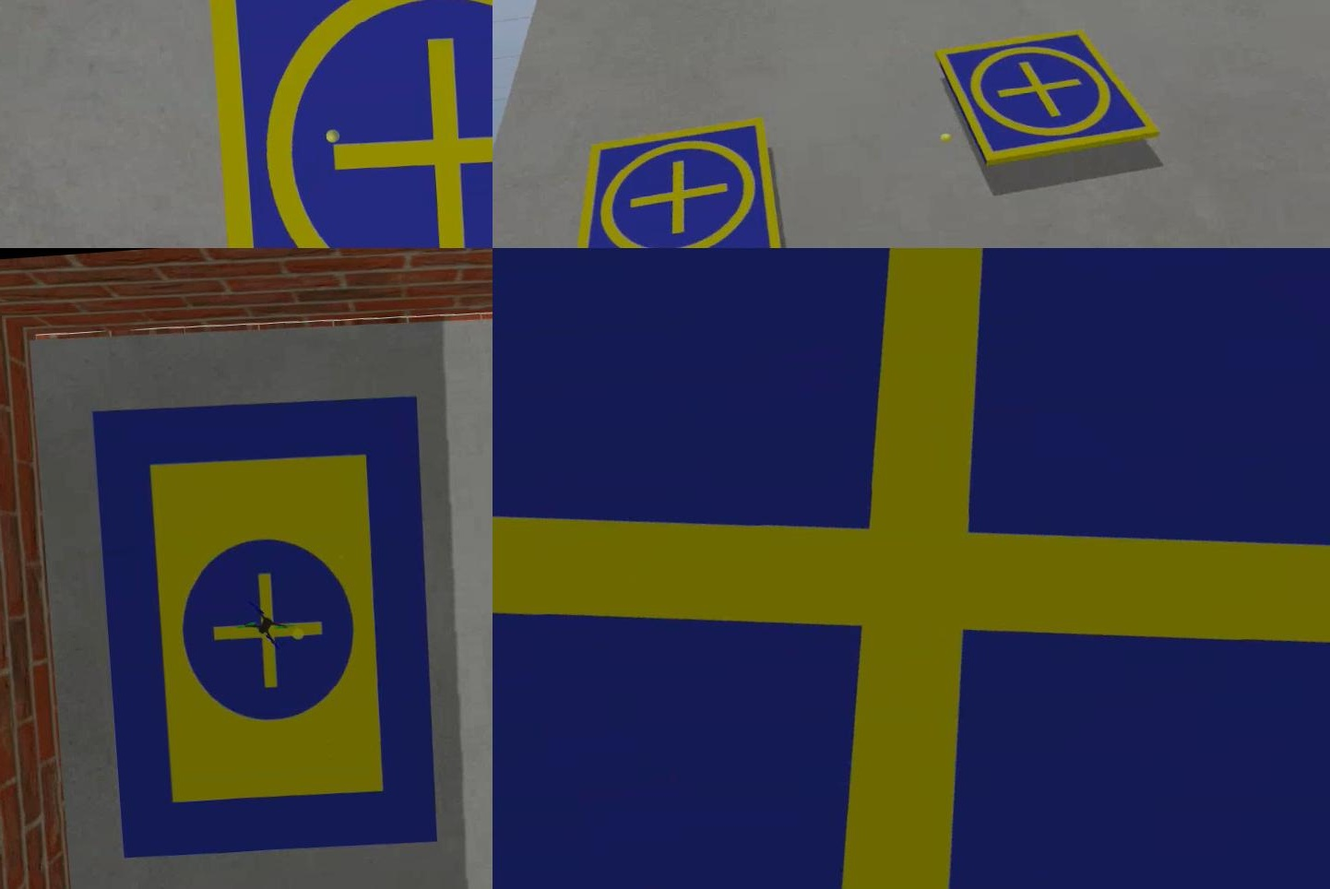large_base: (87, 387, 446, 868)
small_base: (491, 249, 1328, 889), (207, 1, 491, 249), (932, 22, 1161, 171), (554, 114, 786, 249)
